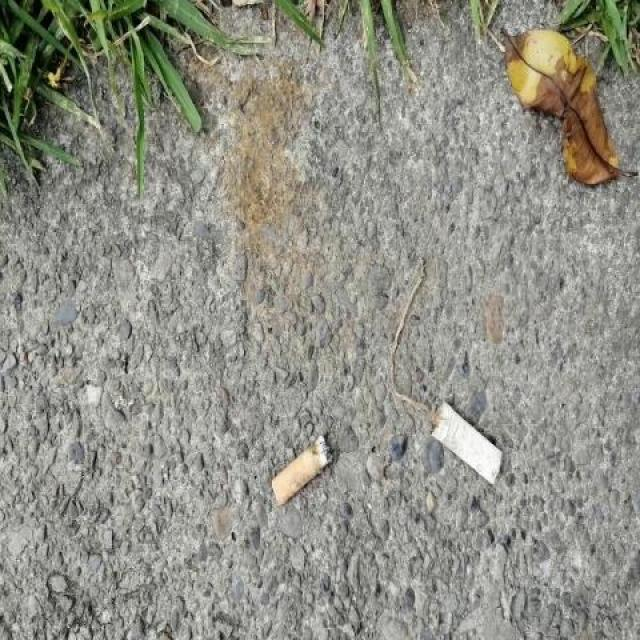non-organic waste: (426, 394, 506, 486), (266, 432, 338, 512)
